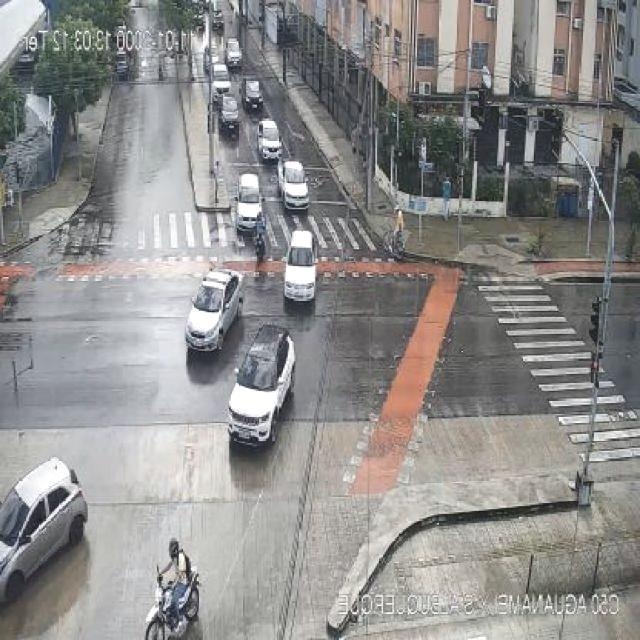Car: (0, 456, 86, 596), (227, 321, 297, 451), (183, 266, 245, 356), (283, 229, 319, 307), (234, 172, 264, 231), (279, 159, 308, 215), (257, 117, 284, 163), (209, 60, 231, 107), (219, 96, 243, 138), (242, 76, 262, 116), (226, 37, 241, 68)
Cycle: (139, 535, 207, 640)
